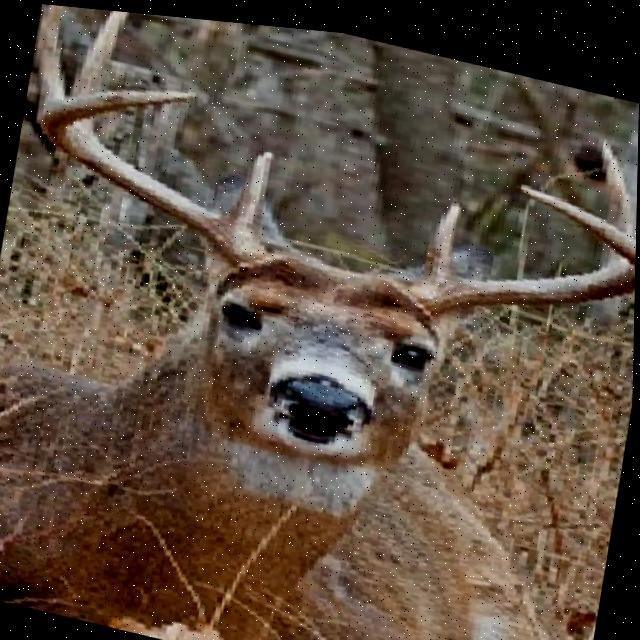L-F: (387, 172, 637, 312)
L-G1: (422, 193, 461, 269)
R-F: (42, 85, 280, 265)
R-G1: (221, 145, 274, 236)
